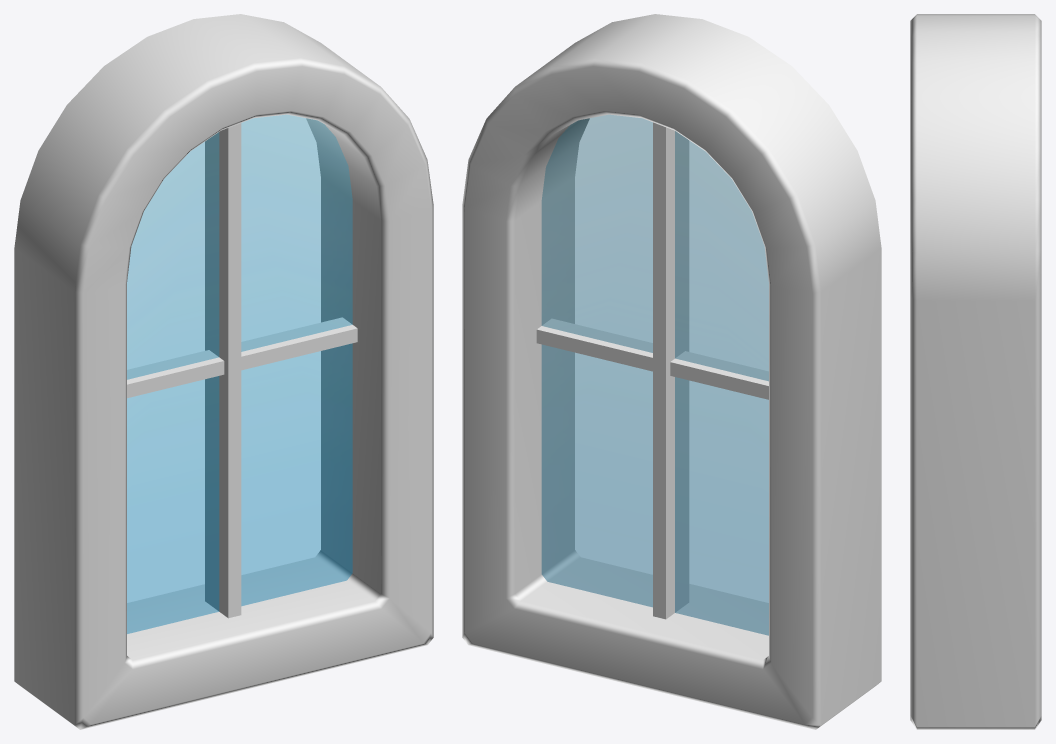
The model's file is Window_White_15.glb.
The picture shows the model from 3 angles, left to right: view 1: azimuth 30°, elevation 25°; view 2: azimuth 150°, elevation 25°; view 3: azimuth 270°, elevation 25°; orthographic projection.
Parts seen in each view (by area): view 1: Window_White_15; view 2: Window_White_15; view 3: Window_White_15.
Part boxes in pixels (x1,y1,x2,y2): Window_White_15: (14,14,433,729); Window_White_15: (462,14,881,729); Window_White_15: (910,14,1041,729).
Bounding box in the file's own units: 1.24 × 2.07 × 0.4.
2 materials, 2 textured.
